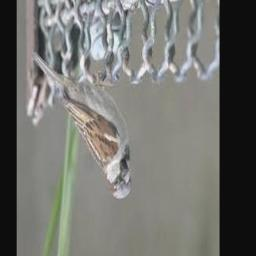Sparrow: (32, 48, 132, 200)
